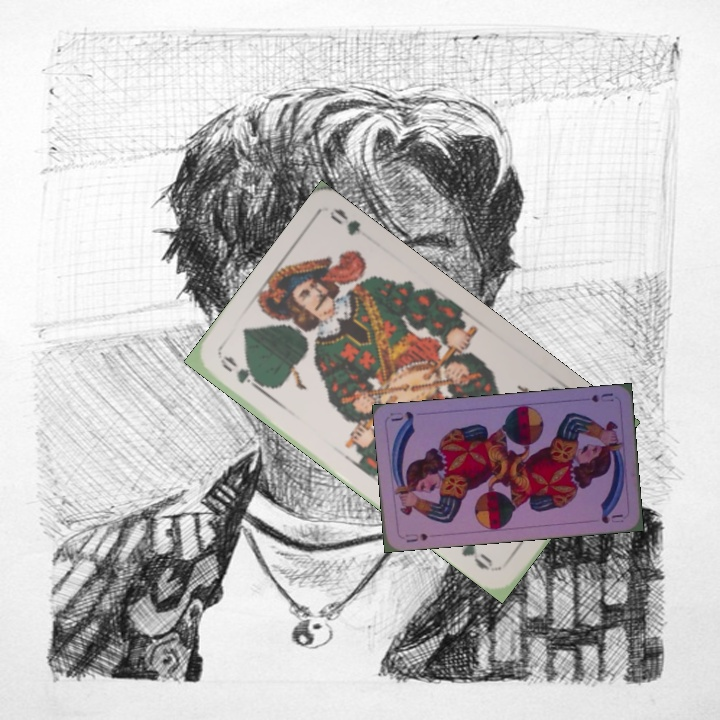GO: (215, 351, 270, 396)
SU: (587, 389, 616, 405), (401, 529, 430, 545)
